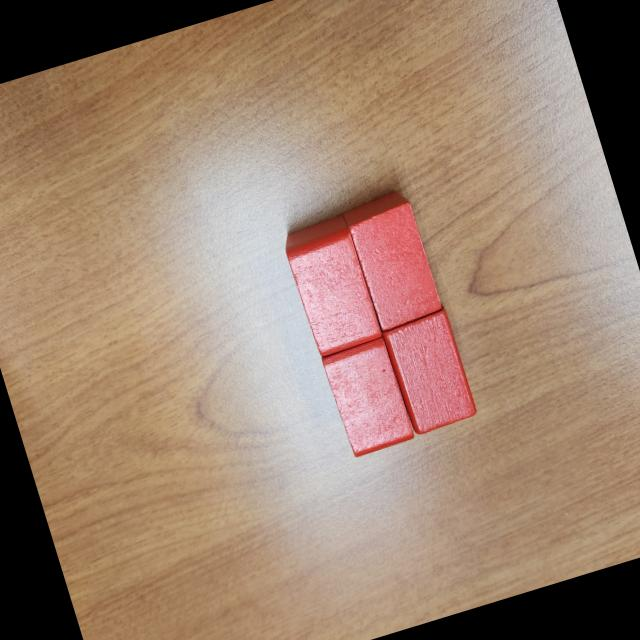red: (336, 186, 444, 334), (279, 214, 383, 360), (378, 300, 480, 438), (320, 334, 417, 458)
